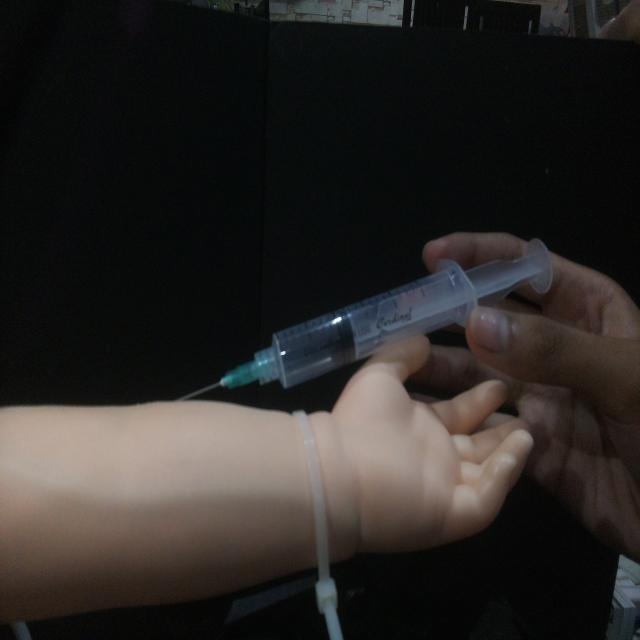17deg: (172, 234, 556, 404)
